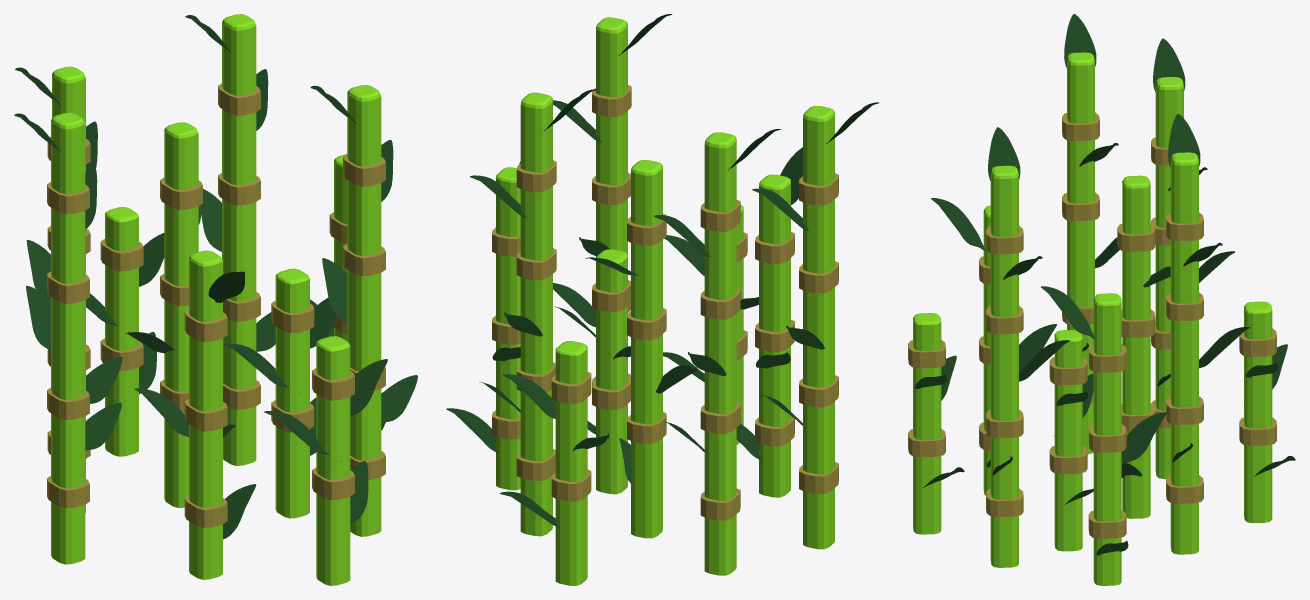
Rendered from bam_busz.glb.
3 views of the same model, side by side, from view 1: azimuth 30°, elevation 25°; view 2: azimuth 150°, elevation 25°; view 3: azimuth 270°, elevation 25° (orthographic). The views are drawn at different scales.
Visible parts, largest first — view 1: BézierCurve.003, BézierCurve.012, BézierCurve.007, BézierCurve.006, BézierCurve.014, BézierCurve.004, BézierCurve.015, BézierCurve.009, BézierCurve.002, BézierCurve.011; view 2: BézierCurve.002, BézierCurve.003, BézierCurve.012, BézierCurve.004, BézierCurve.006, BézierCurve.009, BézierCurve.007, BézierCurve.015, BézierCurve.011, BézierCurve.014; view 3: BézierCurve.012, BézierCurve.007, BézierCurve.011, BézierCurve.003, BézierCurve.004, BézierCurve.002, BézierCurve.014, BézierCurve.009, BézierCurve.015, BézierCurve.006.
Part boxes in pixels (<box>): BézierCurve.003: <box>14,112,121,564</box>; BézierCurve.012: <box>185,14,275,465</box>; BézierCurve.007: <box>310,85,417,536</box>; BézierCurve.006: <box>134,250,256,579</box>; BézierCurve.014: <box>264,336,387,585</box>; BézierCurve.004: <box>125,122,235,507</box>; BézierCurve.015: <box>223,268,335,518</box>; BézierCurve.009: <box>86,207,164,456</box>; BézierCurve.002: <box>15,66,122,513</box>; BézierCurve.011: <box>310,154,385,430</box>; BézierCurve.002: <box>654,129,780,575</box>; BézierCurve.003: <box>752,102,879,549</box>; BézierCurve.012: <box>470,89,597,536</box>; BézierCurve.004: <box>585,160,697,538</box>; BézierCurve.006: <box>736,147,802,497</box>; BézierCurve.009: <box>500,341,608,585</box>; BézierCurve.007: <box>553,14,672,385</box>; BézierCurve.015: <box>553,249,630,494</box>; BézierCurve.011: <box>446,161,520,490</box>; BézierCurve.014: <box>663,205,758,444</box>; BézierCurve.012: <box>1166,114,1250,554</box>; BézierCurve.007: <box>986,127,1070,567</box>; BézierCurve.011: <box>1041,286,1166,585</box>; BézierCurve.003: <box>1062,14,1119,454</box>; BézierCurve.004: <box>1117,175,1170,518</box>; BézierCurve.002: <box>1151,38,1235,479</box>; BézierCurve.014: <box>908,313,964,534</box>; BézierCurve.009: <box>1239,301,1295,523</box>; BézierCurve.015: <box>1049,330,1093,551</box>; BézierCurve.006: <box>931,198,1057,495</box>.
Bounding box in the file's own units: 25.57 × 27.31 × 23.22.
Materials: 3 (1 with a texture image).
